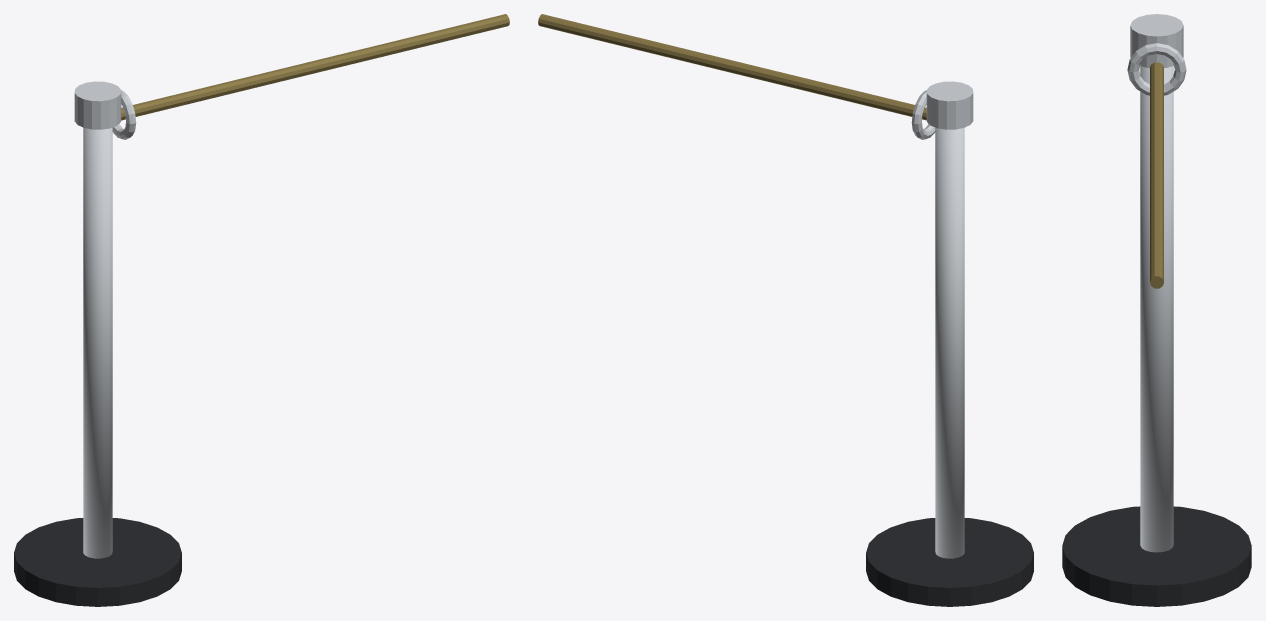
The model's file is hm_bank_stanchion_v2.obj.
3 views of the same model, side by side, from view 1: azimuth 30°, elevation 25°; view 2: azimuth 150°, elevation 25°; view 3: azimuth 270°, elevation 25° (orthographic). The views are drawn at different scales.
Parts seen in each view (by area): view 1: ST_Pole, ST_Base, ST_Rope, ST_Head; view 2: ST_Pole, ST_Base, ST_Rope, ST_Head; view 3: ST_Base, ST_Pole, ST_Rope, ST_Head, ST_Hook.
Part boxes in pixels (x1,y1,x2,y2): ST_Pole: [83, 127, 112, 558]; ST_Base: [14, 518, 181, 606]; ST_Rope: [121, 14, 509, 120]; ST_Head: [74, 81, 121, 129]; ST_Pole: [935, 127, 964, 558]; ST_Base: [866, 518, 1033, 606]; ST_Rope: [538, 14, 926, 120]; ST_Head: [926, 81, 973, 129]; ST_Base: [1062, 506, 1251, 606]; ST_Pole: [1140, 66, 1173, 552]; ST_Rope: [1150, 62, 1163, 288]; ST_Head: [1130, 14, 1183, 67]; ST_Hook: [1127, 43, 1186, 95].
Bounding box in the file's own units: 1.06 × 1.01 × 0.32.
